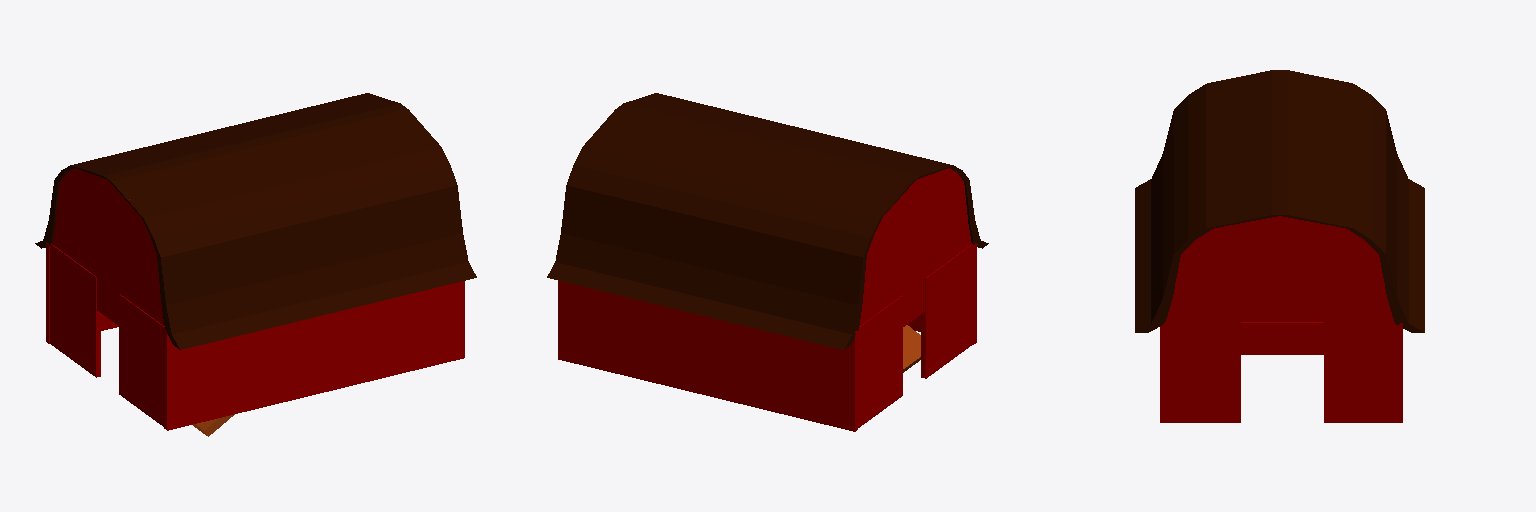
The model's file is Barn.obj.
3 renders of one model, left to right at view 1: azimuth 30°, elevation 25°; view 2: azimuth 150°, elevation 25°; view 3: azimuth 270°, elevation 25°, orthographic.
Parts seen in each view (by area): view 1: Cube.010_Cube.014, Cube.012_Cube.016; view 2: Cube.010_Cube.014, Cube.012_Cube.016, Cube.008_Cube.010; view 3: Cube.010_Cube.014, Cube.012_Cube.016.
Part boxes in pixels (x1,y1,x2,y2): Cube.010_Cube.014: (35, 93, 476, 349); Cube.012_Cube.016: (46, 168, 464, 430); Cube.010_Cube.014: (547, 93, 988, 349); Cube.012_Cube.016: (558, 168, 976, 431); Cube.008_Cube.010: (903, 325, 920, 372); Cube.010_Cube.014: (1135, 70, 1424, 332); Cube.012_Cube.016: (1160, 77, 1402, 422).
Size of the model in its own units: 14.47 by 10.56 by 12.27.